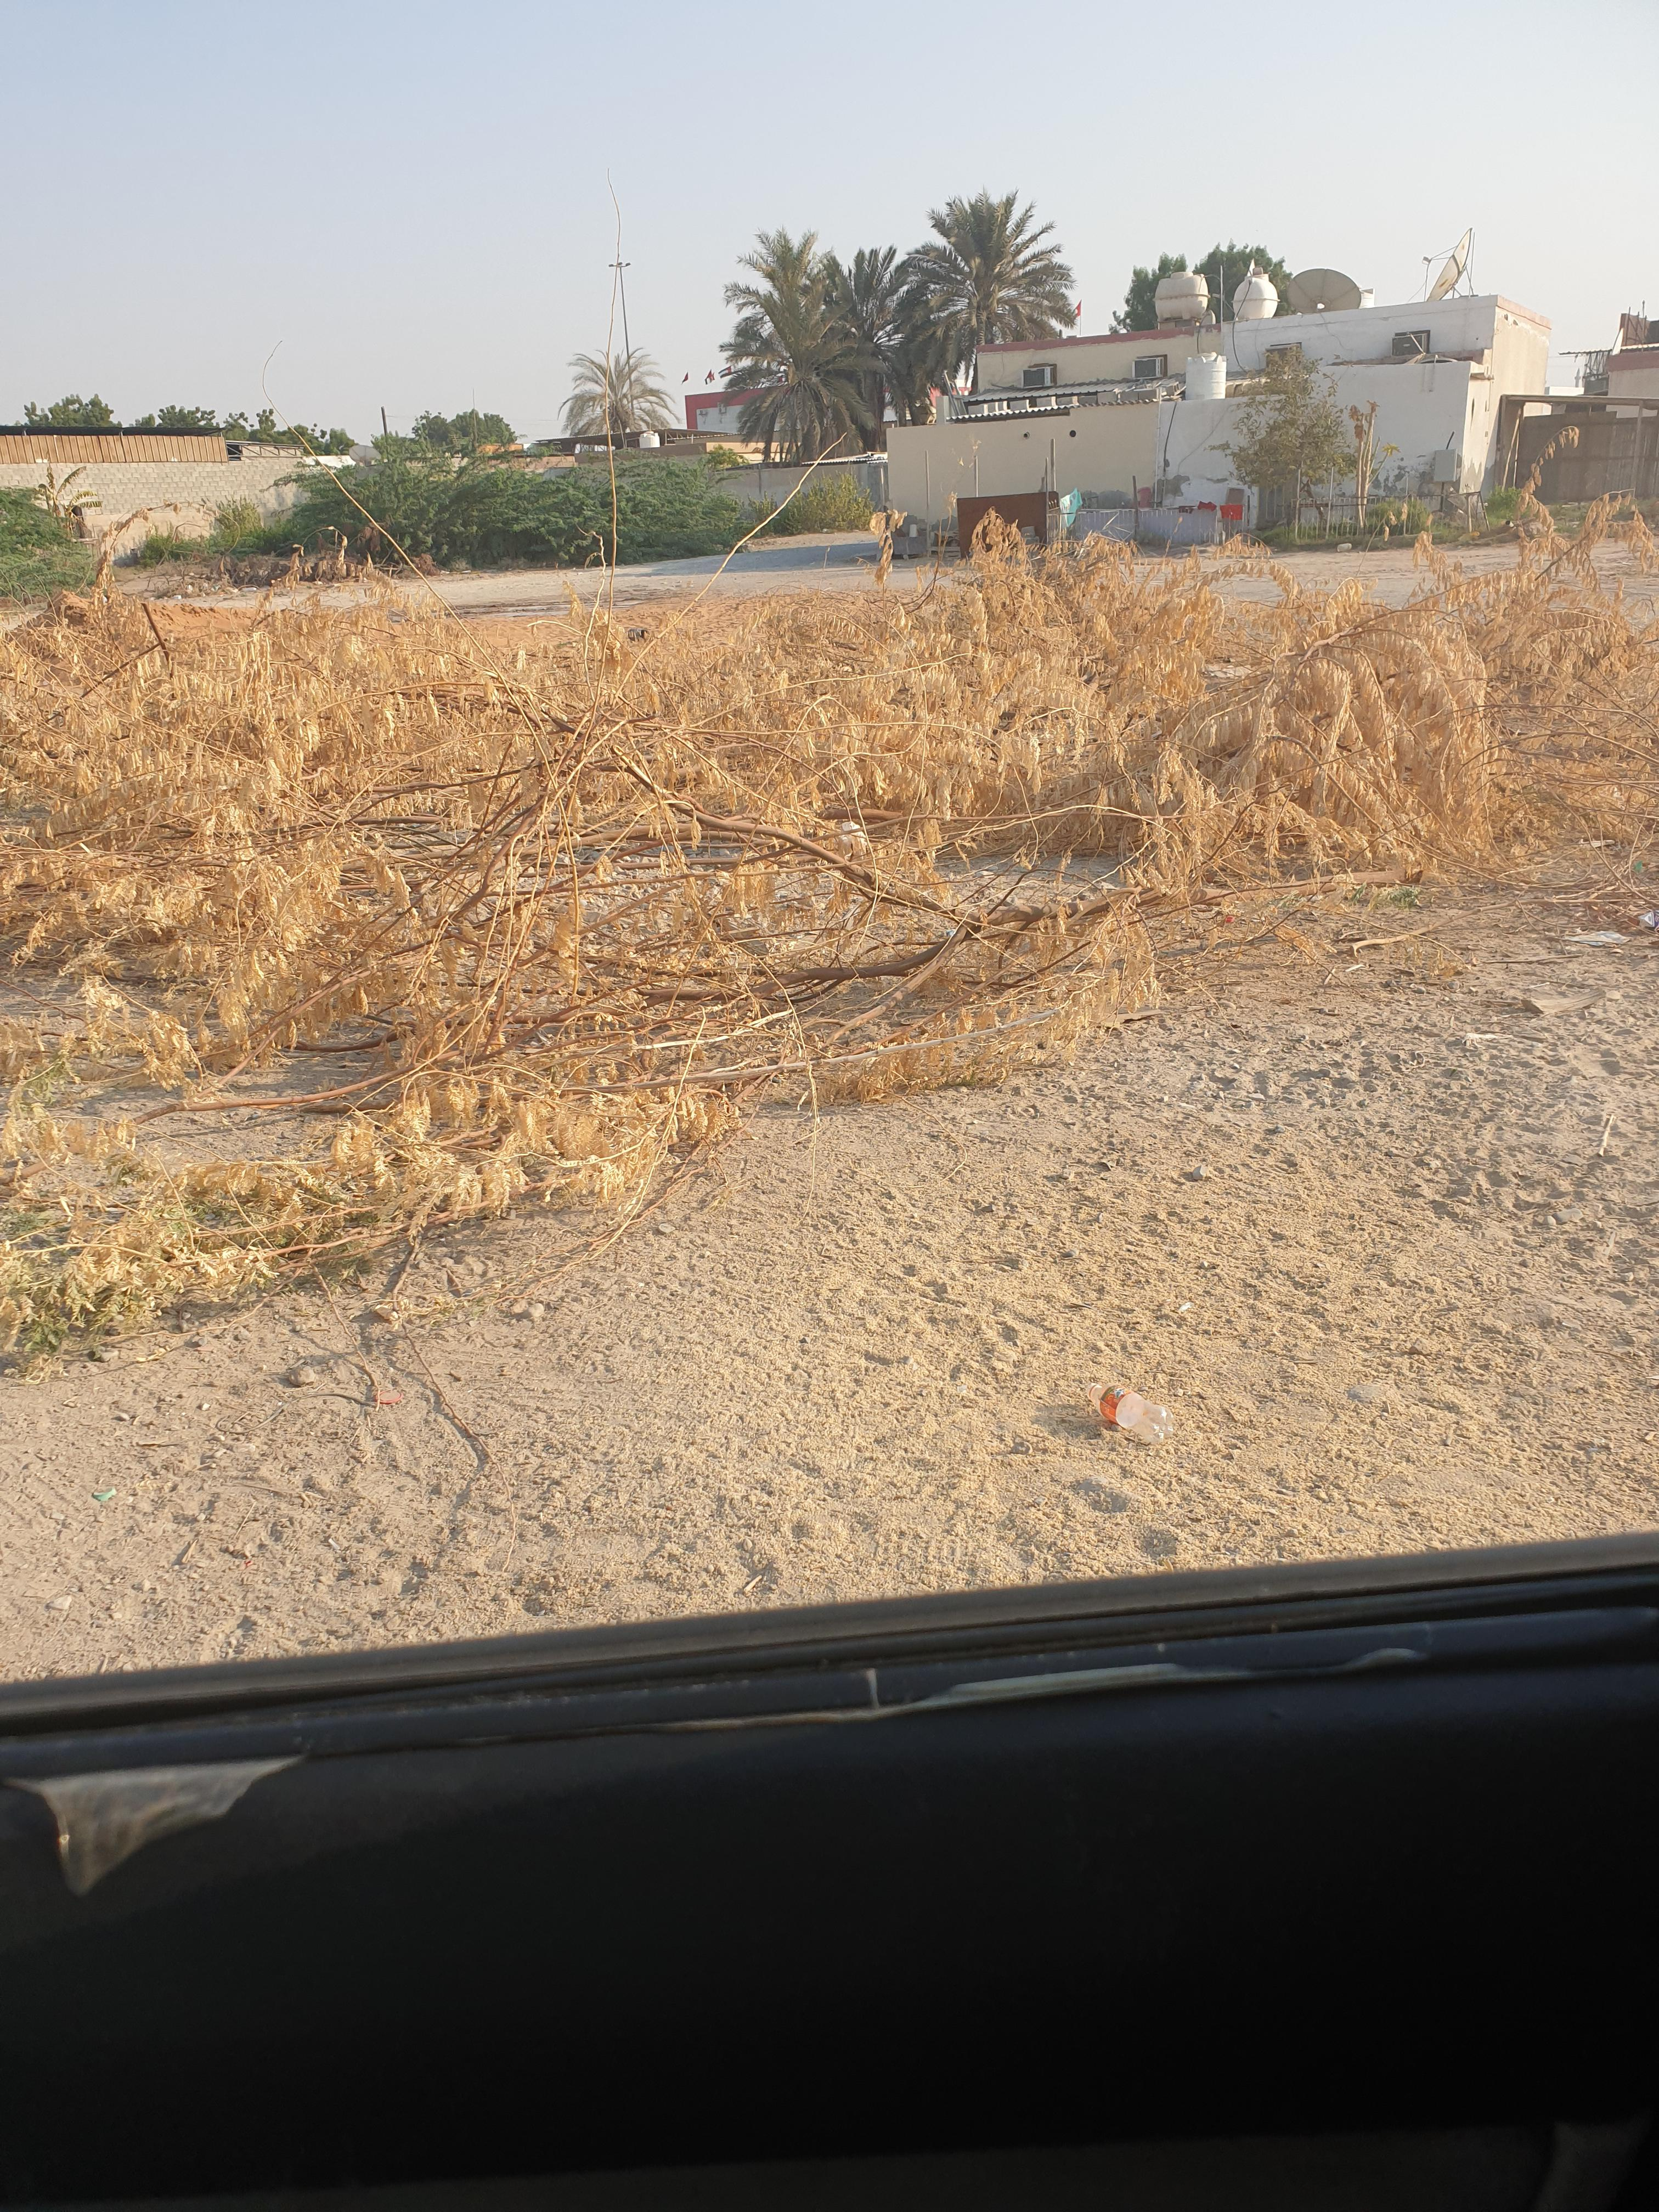fallen_trees: (3, 583, 1086, 1346), (491, 705, 1432, 1160), (552, 805, 1265, 1280), (793, 559, 1647, 946), (71, 766, 748, 1153)
